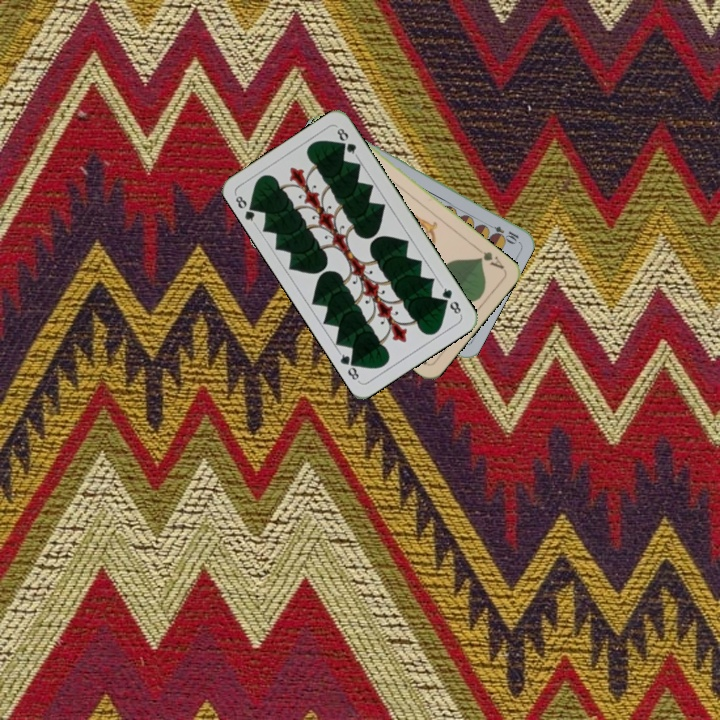E10: (482, 220, 521, 245)
G8: (231, 191, 260, 227), (437, 282, 464, 318)
GA: (472, 243, 507, 272)
